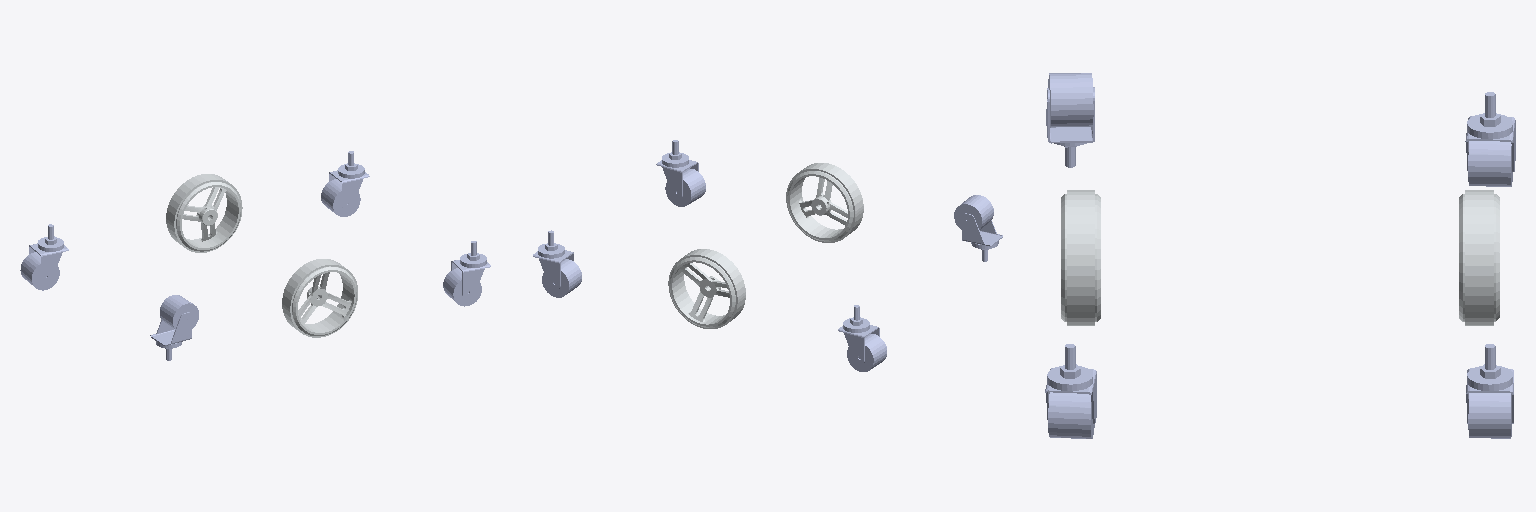
URDF robot description (view_robot_pkg):
<?xml version="1.0" encoding="utf-8"?>
<!-- This URDF was automatically created by SolidWorks to URDF Exporter! Originally created by [author] ([email redacted]) 
     Commit Version: 1.6.0-4-g7f85cfe  Build Version: 1.6.7995.38578
     For more information, please see http://wiki.ros.org/sw_urdf_exporter -->
<robot
  name="view_robot_pkg">

  <link name="base_footprint">
  </link>

  <joint name="base_footprint_joint" type="fixed">
    <parent link="base_footprint"/>
    <child link="base_link"/>
    <origin xyz="0 0 0" rpy="0 0 -3.1416"/>
  </joint>
  
  <link name="base_link">
    <inertial>
      <origin
        xyz="-0.0396066586628238 -0.000292373974782184 0.0124338497958378"
        rpy="0 0 0" />
        <!-- initial rpy="0 0 0"-->
      <mass
        value="10.4273330586553" />
      <inertia
        ixx="0.0723997027348778"
        ixy="4.77524241710279E-07"
        ixz="-2.87548545818645E-06"
        iyy="0.134878952826361"
        iyz="-3.54221331331865E-07"
        izz="0.184998778830345" />
    </inertial>
    <visual>
      <origin
        xyz="0 0 0"
        rpy="0 0 0" />
        <!-- initial rpy="0 0 0"-->
      <geometry>
        <mesh
          filename="package://view_robot_pkg/meshes/base_link.STL" />
      </geometry>
      <material
        name="">
        <color
          rgba="1 1 1 1" />
      </material>
    </visual>
    <collision>
      <origin
        xyz="0 0 0"
        rpy="0 0 0" />
        <!-- initial rpy="0 0 0"-->
      <geometry>
        <mesh
          filename="package://view_robot_pkg/meshes/base_link.STL" />
      </geometry>
    </collision>
  </link>
  <link
    name="leftwheel_Link">
    <inertial>
      <origin
        xyz="1.09006833197423E-05 2.70329233448448E-06 0.00162234371795802"
        rpy="0 0 0" />
      <mass
        value="0.194507281551966" />
      <inertia
        ixx="0.000192331469193584"
        ixy="-4.15408148587943E-09"
        ixz="1.79283643410024E-08"
        iyy="0.000192347019915483"
        iyz="4.31032408718448E-09"
        izz="0.000362123785735418" />
    </inertial>
    <visual>
      <origin
        xyz="0 0 0"
        rpy="0 0 0" />
      <geometry>
        <mesh
          filename="package://view_robot_pkg/meshes/leftwheel_Link.STL" />
      </geometry>
      <material
        name="">
        <color
          rgba="0.898039215686275 0.917647058823529 0.929411764705882 1" />
      </material>
    </visual>
    <collision>
      <origin
        xyz="0 0 0"
        rpy="0 0 0" />
      <geometry>
        <mesh
          filename="package://view_robot_pkg/meshes/leftwheel_Link.STL" />
      </geometry>
    </collision>
  </link>
  <joint
    name="leftwheel_joint"
    type="continuous">
    <origin
      xyz="-0.0365796016860652 -0.145383801556953 -0.0628603409839465"
      rpy="-1.5707963267949 0 3.14159265358979" />
    <parent
      link="base_link" />
    <child
      link="leftwheel_Link" />
    <axis
      xyz="0 0 1" />
    <dynamics
      damping="0.1"
      friction="0.1" />
  </joint>
  <link
    name="rightwheel_Link">
    <inertial>
      <origin
        xyz="9.73918656295425E-06 -5.59293584566183E-06 -0.001622343717958"
        rpy="0 0 0" />
      <mass
        value="0.194507281551966" />
      <inertia
        ixx="0.000192334835886035"
        ixy="7.63388976538727E-09"
        ixz="-1.60553387756556E-08"
        iyy="0.000192343653223033"
        iyz="9.06814415857119E-09"
        izz="0.000362123785735418" />
    </inertial>
    <visual>
      <origin
        xyz="0 0 0"
        rpy="0 0 0" />
      <geometry>
        <mesh
          filename="package://view_robot_pkg/meshes/rightwheel_Link.STL" />
      </geometry>
      <material
        name="">
        <color
          rgba="0.898039215686275 0.917647058823529 0.929411764705882 1" />
      </material>
    </visual>
    <collision>
      <origin
        xyz="0 0 0"
        rpy="0 0 0" />
      <geometry>
        <mesh
          filename="package://view_robot_pkg/meshes/rightwheel_Link.STL" />
      </geometry>
    </collision>
  </link>
  <joint
    name="rightwheel_joint"
    type="continuous">
    <origin
      xyz="-0.03658 0.14462 -0.06286"
      rpy="-1.5708 0 3.1416" />
    <parent
      link="base_link" />
    <child
      link="rightwheel_Link" />
    <axis
      xyz="0 0 1" />
    <dynamics
      damping="0.1"
      friction="0.1" />
  </joint>
  <link
    name="left_casterwheel_before_Link">
    <inertial>
      <origin
        xyz="-0.00970551062886088 0.0231580533440657 -6.02385249136445E-05"
        rpy="0 0 0" />
      <mass
        value="0.0508845884047379" />
      <inertia
        ixx="1.83865076256345E-05"
        ixy="3.92608934894462E-06"
        ixz="-2.74205625337102E-09"
        iyy="1.09114014506497E-05"
        iyz="1.34035273656293E-08"
        izz="2.0189072497429E-05" />
    </inertial>
    <visual>
      <origin
        xyz="0 0 0"
        rpy="0 0 0" />
      <geometry>
        <mesh
          filename="package://view_robot_pkg/meshes/left_casterwheel_before_Link.STL" />
      </geometry>
      <material
        name="">
        <color
          rgba="0.792156862745098 0.819607843137255 0.933333333333333 1" />
      </material>
    </visual>
    <collision>
      <origin
        xyz="0 0 0"
        rpy="0 0 0" />
      <geometry>
        <mesh
          filename="package://view_robot_pkg/meshes/left_casterwheel_before_Link.STL" />
      </geometry>
    </collision>
  </link>
  <joint
    name="left_casterwheel_before_joint"
    type="fixed">
    <origin
      xyz="-0.25358 -0.15543 -0.062462"
      rpy="-1.5708 0 3.1416" />
    <parent
      link="base_link" />
    <child
      link="left_casterwheel_before_Link" />
    <axis
      xyz="0 1 0" />
    <dynamics
      damping="0.1"
      friction="0.1" />
  </joint>
  <link
    name="left_casterwheel_after_Link">
    <inertial>
      <origin
        xyz="-0.00970082884711942 0.0231580533440657 0.000307384003666783"
        rpy="0 0 0" />
      <mass
        value="0.0508845884047379" />
      <inertia
        ixx="1.83888856430935E-05"
        ixy="3.92378021448862E-06"
        ixz="6.54858354268485E-08"
        iyy="1.09114014506497E-05"
        iyz="-1.35299884810974E-07"
        izz="2.01866944799701E-05" />
    </inertial>
    <visual>
      <origin
        xyz="0 0 0"
        rpy="0 0 0" />
      <geometry>
        <mesh
          filename="package://view_robot_pkg/meshes/left_casterwheel_after_Link.STL" />
      </geometry>
      <material
        name="">
        <color
          rgba="0.792156862745098 0.819607843137255 0.933333333333333 1" />
      </material>
    </visual>
    <collision>
      <origin
        xyz="0 0 0"
        rpy="0 0 0" />
      <geometry>
        <mesh
          filename="package://view_robot_pkg/meshes/left_casterwheel_after_Link.STL" />
      </geometry>
    </collision>
  </link>
  <joint
    name="left_casterwheel_after_joint"
    type="fixed">
    <origin
      xyz="0.18642 -0.15554 -0.062462"
      rpy="-1.5708 0 3.1416" />
    <parent
      link="base_link" />
    <child
      link="left_casterwheel_after_Link" />
    <axis
      xyz="0 1 0" />
    <dynamics
      damping="0.1"
      friction="0.1" />
  </joint>
  <link
    name="right_casterwheel_before_Link">
    <inertial>
      <origin
        xyz="-0.00967759784074382 0.0231580533440657 0.000738014416962085"
        rpy="0 0 0" />
      <mass
        value="0.0508845884047379" />
      <inertia
        ixx="1.83982456736094E-05"
        ixy="3.91389646988315E-06"
        ixz="1.45011482459523E-07"
        iyy="1.09114014506497E-05"
        iyz="-3.09469955696018E-07"
        izz="2.01773344494542E-05" />
    </inertial>
    <visual>
      <origin
        xyz="0 0 0"
        rpy="0 0 0" />
      <geometry>
        <mesh
          filename="package://view_robot_pkg/meshes/right_casterwheel_before_Link.STL" />
      </geometry>
      <material
        name="">
        <color
          rgba="0.792156862745098 0.819607843137255 0.933333333333333 1" />
      </material>
    </visual>
    <collision>
      <origin
        xyz="0 0 0"
        rpy="0 0 0" />
      <geometry>
        <mesh
          filename="package://view_robot_pkg/meshes/right_casterwheel_before_Link.STL" />
      </geometry>
    </collision>
  </link>
  <joint
    name="right_casterwheel_before_joint"
    type="fixed">
    <origin
      xyz="-0.25359 0.15433 -0.062462"
      rpy="-1.5708 0 3.1416" />
    <parent
      link="base_link" />
    <child
      link="right_casterwheel_before_Link" />
    <axis
      xyz="0 1 0" />
    <dynamics
      damping="0.1"
      friction="0.1" />
  </joint>
  <link
    name="right_casterwheel_after_Link">
    <inertial>
      <origin
        xyz="-0.00970209892470675 0.0231580533440657 0.000264275806722503"
        rpy="0 0 0" />
      <mass
        value="0.0508845884047379" />
      <inertia
        ixx="1.838833917898E-05"
        ixy="3.92434267670156E-06"
        ixz="5.74948519968227E-08"
        iyy="1.09114014506497E-05"
        iyz="-1.1786342206603E-07"
        izz="2.01872409440836E-05" />
    </inertial>
    <visual>
      <origin
        xyz="0 0 0"
        rpy="0 0 0" />
      <geometry>
        <mesh
          filename="package://view_robot_pkg/meshes/right_casterwheel_after_Link.STL" />
      </geometry>[number redacted]
      <material
        name="">
        <color
          rgba="0.792156862745098 0.819607843137255 0.933333333333333 1" />
      </material>
    </visual>
    <collision>
      <origin
        xyz="0 0 0"
        rpy="0 0 0" />
      <geometry>
        <mesh
          filename="package://view_robot_pkg/meshes/right_casterwheel_after_Link.STL" />
      </geometry>
    </collision>
  </link>
  <joint
    name="right_casterwheel_after_joint"
    type="fixed">
    <origin
      xyz="0.18642 0.15447 -0.062462"
      rpy="-1.5708 0 3.1416" />
    <parent
      link="base_link" />
    <child
      link="right_casterwheel_after_Link" />
    <axis
      xyz="0 -1 0" />
    <dynamics
      damping="0.1"
      friction="0.1" />
  </joint>

  <link
    name="lidar_link">    <!--''ros2 launch sllidar_s2_launch frame_id:= lidar_Link" de khoi tao topic /scan  -->
    <inertial>
      <origin
        xyz="0.00303996073383583 9.65820217607716E-07 0.0128055204576732"
        rpy="0 0 0" />
        <!-- rpy="0 0 0"-->
      <mass
        value="0.0350818392563211" />
      <inertia
        ixx="1.94316858914545E-05"
        ixy="9.09209227752789E-10"
        ixz="-4.07022921376659E-08"
        iyy="1.93203924159225E-05"
        iyz="8.87508504986298E-10"
        izz="3.70184546846267E-05" />
    </inertial>
    <visual>
      <origin
        xyz="0 0 0"
        rpy="0 0 0" />
      <geometry>
        <mesh
          filename="package://view_robot_pkg/meshes/lidar_Link.STL" />
      </geometry>
      <material
        name="">
        <color
          rgba="0 0 0 1" />
      </material>
    </visual>
    <collision>
      <origin
        xyz="0 0 0"
        rpy="0 0 0" />
      <geometry>
        <mesh
          filename="package://view_robot_pkg/meshes/lidar_Link.STL" />
      </geometry>
    </collision>
  </link>
  <joint
    name="lidar_joint"
    type="fixed">
    <origin
      xyz="-0.32047 0.00042694 0.08"
      rpy=" 0 0 0" />
      <!-- initial origin
       xyz="-0.35047 -0.00042694 -0.047292"
       rpy="-3.1416 0 0"-->
    <parent
      link="base_link" />
    <child
      link="lidar_link" />
    <axis
      xyz="0 0 0" />
    <dynamics
      damping="0.1"
      friction="0.1" />
  </joint>
  <!-- 
  <gazebo reference="right_casterwheel_before_Link">
    <material>Gazebo/Blue</material>
    <mu1 value="0.001"/>
    <mu2 value="0.001"/>
  </gazebo>

  <gazebo reference="right_casterwheel_after_Link">
    <material>Gazebo/Blue</material>
    <mu1 value="0.001"/>
    <mu2 value="0.001"/>
  </gazebo>

  <gazebo reference="left_casterwheel_before_Link">
    <material>Gazebo/Blue</material>
    <mu1 value="0.001"/>
    <mu2 value="0.001"/>
  </gazebo>

  <gazebo reference="left_casterwheel_after_Link">
    <material>Gazebo/Blue</material>
    <mu1 value="0.001"/>
    <mu2 value="0.001"/>
  </gazebo>

  <gazebo reference="rightwheel_Link">
    <material>Gazebo/Black</material>
  </gazebo>

  <gazebo reference="leftwheel_Link">
    <material>Gazebo/Black</material>
  </gazebo>

  <gazebo reference="lidar_link">
    <material>Gazebo/Black</material>
  </gazebo>

  <gazebo>
    <plugin
      filename="gz-sim-diff-drive-system"
      name="gz::sim::systems::DiffDrive">
      
      //Configuration of my robot

      <left_joint>leftwheel_joint</left_joint>
      <right_joint>rightwheel_joint</right_joint>
      <wheel_separation>0.328</wheel_separation> 
      <wheel_radius>0.05</wheel_radius>

      //Limitation for robot
      <max_linear_acceleration>1</max_linear_acceleration>
      <min_linear_acceleration>-1</min_linear_acceleration>

      <max_angular_acceleration>2</max_angular_acceleration>
      <min_angular_acceleration>-2</min_angular_acceleration>

      <max_linear_velocity>0.5</max_linear_velocity>
      <min_linear_velocity>-0.5</min_linear_velocity>

      <max_angular_velocity>1</max_angular_velocity>
      <min_angular_velocity>-1</min_angular_velocity>

      //Input /cmd_vel
      <topic>cmd_vel</topic> 

      //Output       
      <odom_topic>odom</odom_topic> 
      <tf_topic>tf</tf_topic>       
      <frame_id>odom</frame_id>
      <child_frame_id>base_footprint</child_frame_id> 
      <odom_publish_frequency>30</odom_publish_frequency>
      
    </plugin>

    <plugin filename="gz-sim-joint-state-publisher-system"
      name="gz::sim::systems::JointStatePublisher">
      <topic>joint_states</topic>
      <joint_name>leftwheel_joint</joint_name>
      <joint_name>rightwheel_joint</joint_name>
    </plugin>

  </gazebo>  

  <gazebo reference="lidar_link">
    <material>Gazebo/Black</material>

      <sensor name="lidar" type="gpu_lidar">
          <pose>0.5 0 0 0 0 0</pose> <always_on>true</always_on>
          <visualize>true</visualize>
          <update_rate>10</update_rate>
          <lidar>
            <scan>
              <horizontal>
                <samples>360</samples>
                <resolution>1</resolution>
                <min_angle>-3.14</min_angle>
                <max_angle>3.14</max_angle>
              </horizontal>
            </scan>
            <range>
              <min>0.05</min>
              <max>12.0</max>
              <resolution>0.01</resolution>
            </range>
          </lidar>
          <plugin filename="gz-sim-sensors-system" name="gz::sim::systems::Sensors">
              <render_engine>ogre2</render_engine>
          </plugin>
          <topic>scan</topic>
          <gz_frame_id>lidar_link</gz_frame_id>
      </sensor>
  </gazebo> 
-->
</robot>

--- Facts derived from the render (not from the file) ---
Views: 3 orthographic renders of the robot side by side, from view 1: azimuth 30°, elevation 25°; view 2: azimuth 150°, elevation 25°; view 3: azimuth 270°, elevation 25°.
Model view_robot_pkg with 9 links and 8 joints (2 continuous, 6 fixed), rooted at base_footprint, posed every joint at zero.
Links seen in each view (by area): view 1: rightwheel_Link, leftwheel_Link, right_casterwheel_after_Link, left_casterwheel_before_Link, left_casterwheel_after_Link, right_casterwheel_before_Link; view 2: leftwheel_Link, rightwheel_Link, right_casterwheel_before_Link, left_casterwheel_after_Link, left_casterwheel_before_Link, right_casterwheel_after_Link; view 3: leftwheel_Link, rightwheel_Link, right_casterwheel_before_Link, left_casterwheel_after_Link, right_casterwheel_after_Link, left_casterwheel_before_Link.
Link boxes in pixels (left/top/right/bottom): rightwheel_Link: left=282, top=259, right=357, bottom=337; leftwheel_Link: left=166, top=174, right=242, bottom=252; right_casterwheel_after_Link: left=150, top=295, right=198, bottom=360; left_casterwheel_before_Link: left=321, top=151, right=369, bottom=216; left_casterwheel_after_Link: left=20, top=224, right=68, bottom=290; right_casterwheel_before_Link: left=443, top=241, right=490, bottom=306; leftwheel_Link: left=668, top=249, right=745, bottom=328; rightwheel_Link: left=786, top=163, right=863, bottom=242; right_casterwheel_before_Link: left=656, top=140, right=705, bottom=206; left_casterwheel_after_Link: left=838, top=305, right=886, bottom=371; left_casterwheel_before_Link: left=533, top=230, right=581, bottom=297; right_casterwheel_after_Link: left=954, top=195, right=1002, bottom=261; leftwheel_Link: left=1459, top=190, right=1499, bottom=325; rightwheel_Link: left=1061, top=190, right=1100, bottom=325; right_casterwheel_before_Link: left=1045, top=344, right=1096, bottom=438; left_casterwheel_after_Link: left=1465, top=92, right=1515, bottom=186; right_casterwheel_after_Link: left=1046, top=73, right=1094, bottom=167; left_casterwheel_before_Link: left=1466, top=344, right=1513, bottom=438.
Size in the robot's own frame: 0.4948 by 0.3477 by 0.1004 metres.
6 mesh visuals loaded from 8 distinct referenced files (6 binary STL); not drawn: 2 (reference not matched to a file when rendering).